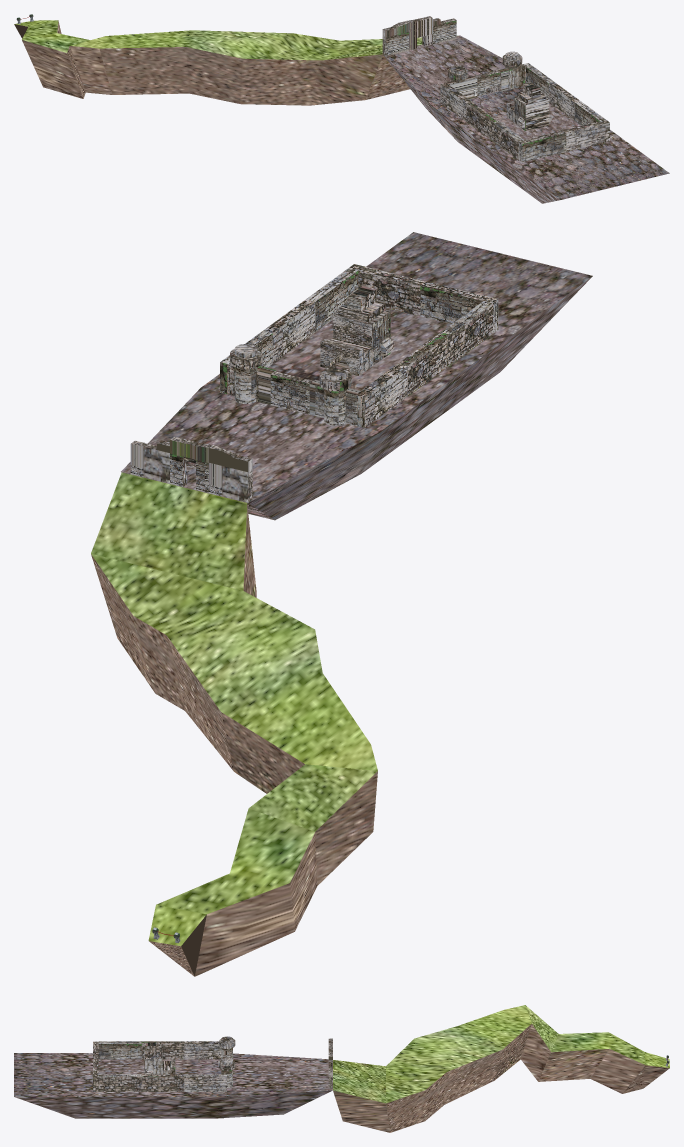
The model's file is pillars.glb.
The picture shows the model from 3 angles, top to bottom: view 1: azimuth 30°, elevation 25°; view 2: azimuth 150°, elevation 25°; view 3: azimuth 270°, elevation 25°; orthographic projection. The views are drawn at different scales.
Visible parts, largest first — view 1: Plane-col.001, Plane-col, Cube.009-col, Cube.010-col, Object-col.002, Object-col.001, Object-col.003, Object-col, Cylinder-col, Cylinder.001-col; view 2: Plane-col.001, Plane-col, Cube.009-col, Cube.010-col, Object-col.002, Object-col.001, Cylinder-col, Object-col.003, Cylinder.001-col, Object-col; view 3: Plane-col.001, Plane-col, Cube.009-col, Cube.010-col, Cylinder-col, Cylinder.001-col.
Part boxes in pixels (box(x1,y1,x2,y2)): Plane-col.001: box(14, 20, 457, 105); Plane-col: box(383, 35, 669, 203); Cube.009-col: box(440, 63, 609, 162); Cube.010-col: box(506, 82, 551, 131); Object-col.002: box(382, 21, 408, 55); Object-col.001: box(407, 16, 432, 50); Object-col.003: box(432, 18, 456, 44); Object-col: box(474, 70, 500, 96); Cylinder-col: box(502, 51, 522, 69); Cylinder.001-col: box(448, 65, 467, 82); Plane-col.001: box(91, 472, 377, 976); Plane-col: box(121, 232, 592, 520); Cube.009-col: box(220, 264, 498, 427); Cube.010-col: box(320, 286, 394, 376); Object-col.002: box(209, 445, 252, 502); Object-col.001: box(170, 437, 212, 493); Cylinder-col: box(230, 344, 262, 404); Object-col.003: box(130, 440, 169, 483); Cylinder.001-col: box(319, 366, 351, 425); Object-col: box(270, 371, 313, 414); Plane-col.001: box(333, 1005, 669, 1132); Plane-col: box(14, 1053, 332, 1118); Cube.009-col: box(93, 1041, 226, 1091); Cube.010-col: box(144, 1042, 175, 1074); Cylinder-col: box(219, 1058, 235, 1087); Cylinder.001-col: box(219, 1036, 235, 1059).
Bounding box in the file's own units: 480 × 237 × 1145.
Materials: 9 (8 with a texture image).
